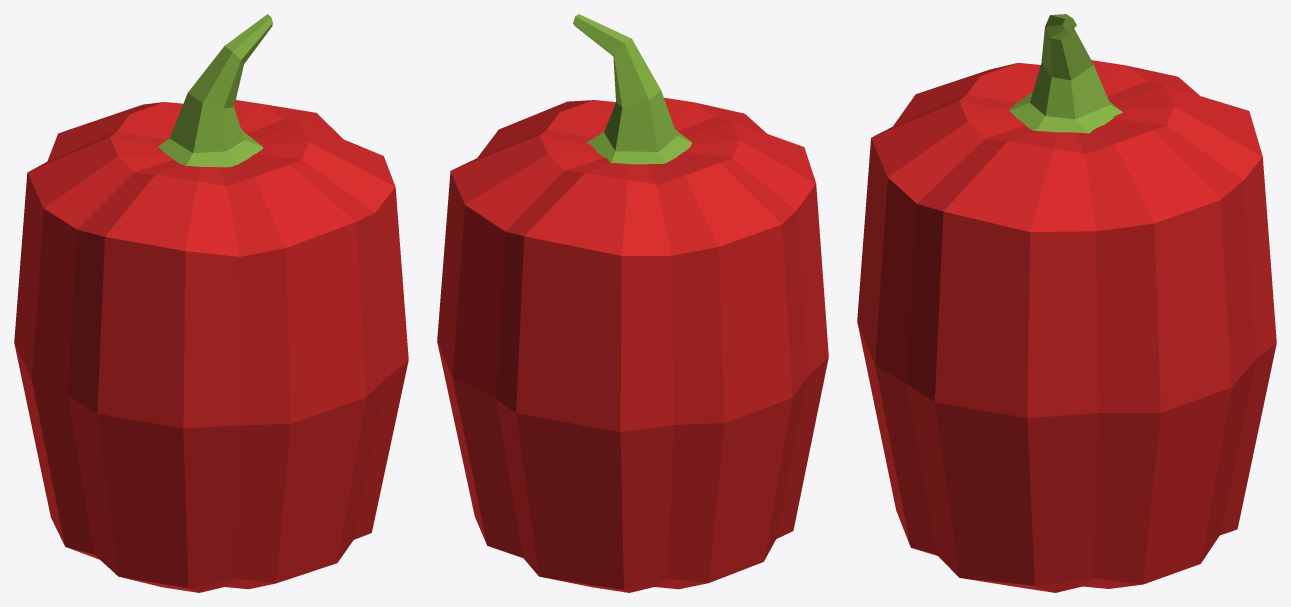
File: Bell_Pepper_Red.fbx
3 renders of one model, left to right at view 1: azimuth 30°, elevation 25°; view 2: azimuth 150°, elevation 25°; view 3: azimuth 270°, elevation 25°, orthographic. The views are drawn at different scales.
Visible parts, largest first — view 1: Bell_Pepper_Red; view 2: Bell_Pepper_Red; view 3: Bell_Pepper_Red.
Boxes of the visible parts, left/top/right/bottom form: Bell_Pepper_Red: left=14, top=14, right=408, bottom=592; Bell_Pepper_Red: left=437, top=14, right=828, bottom=592; Bell_Pepper_Red: left=857, top=14, right=1276, bottom=592.
Size of the model in its own units: 12.18 by 18.35 by 12.3.
